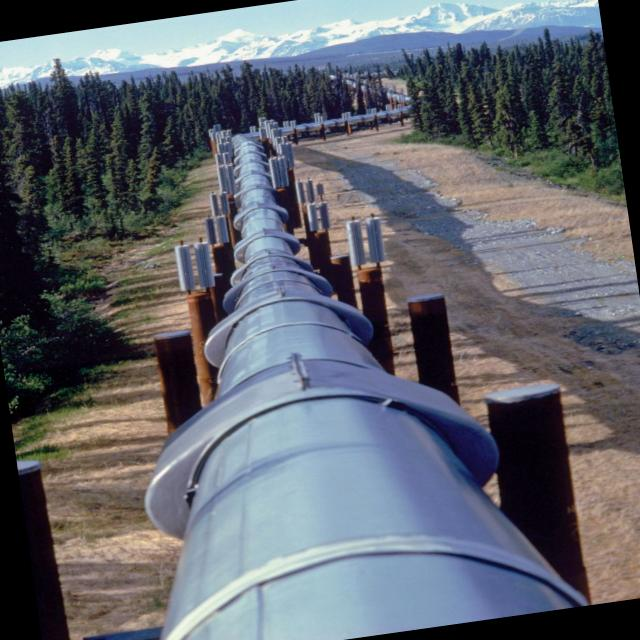gas: (162, 138, 571, 640)
